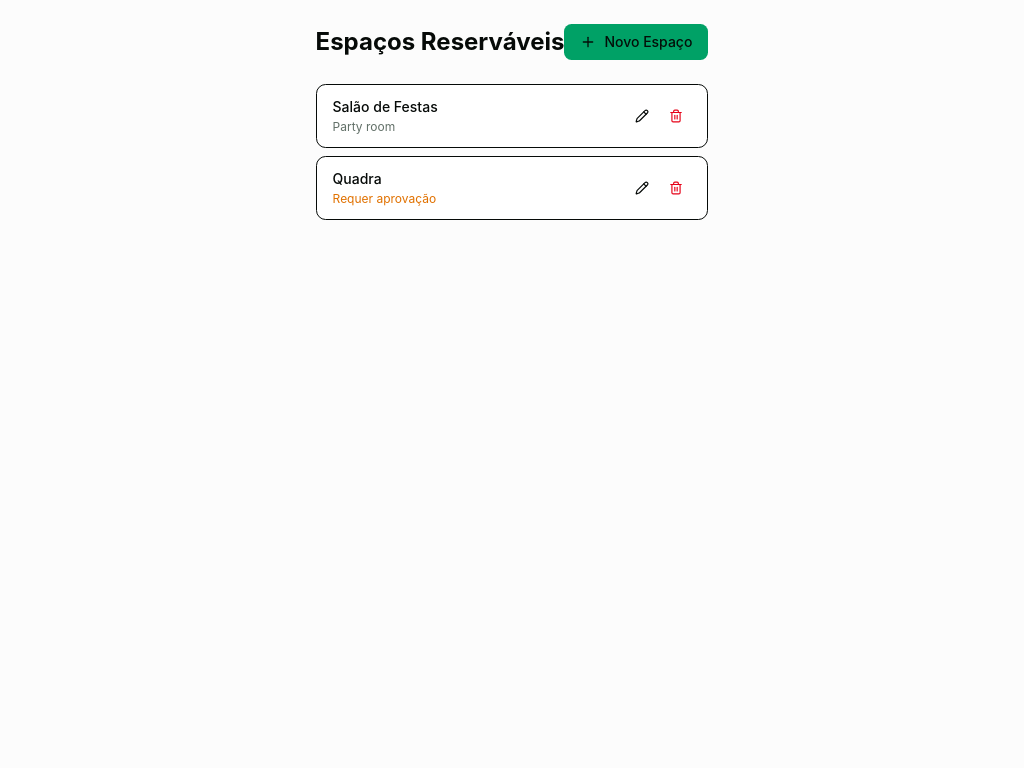
ReservableSpacesPage › shows error alert on create failure
Click the button "Novo Espaço" at coordinates (636, 42), box [564,24,708,60]
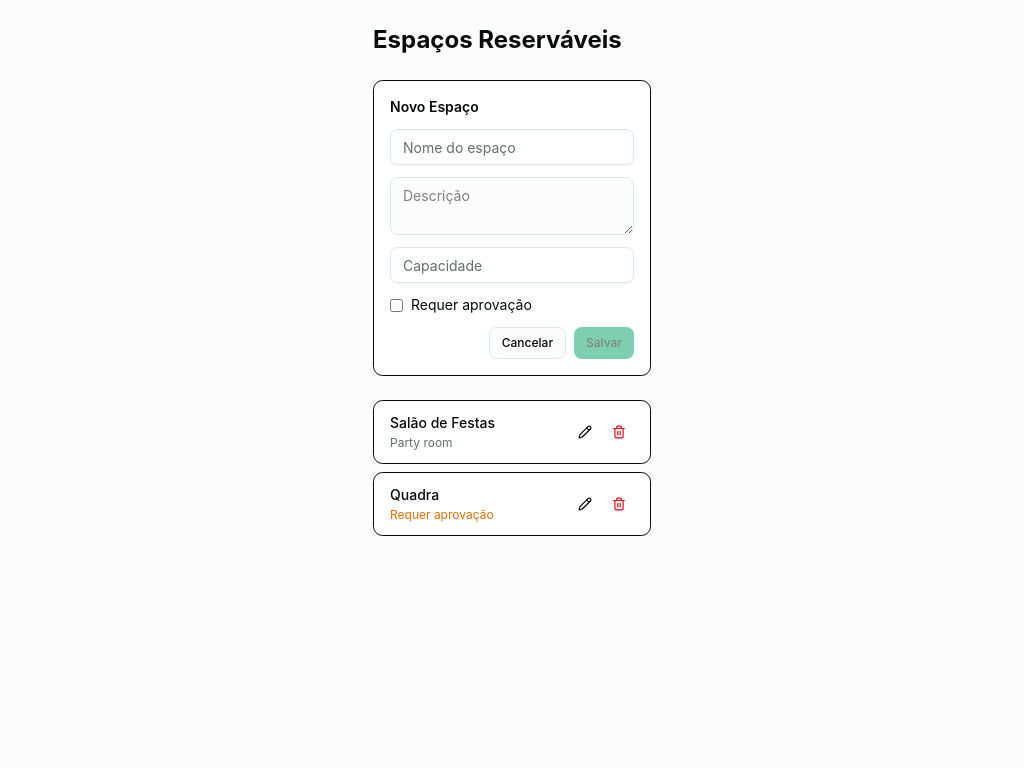
Type "Piscina" into the field with placeholder "Nome do espaço" at coordinates (512, 147), box [390,129,634,165]
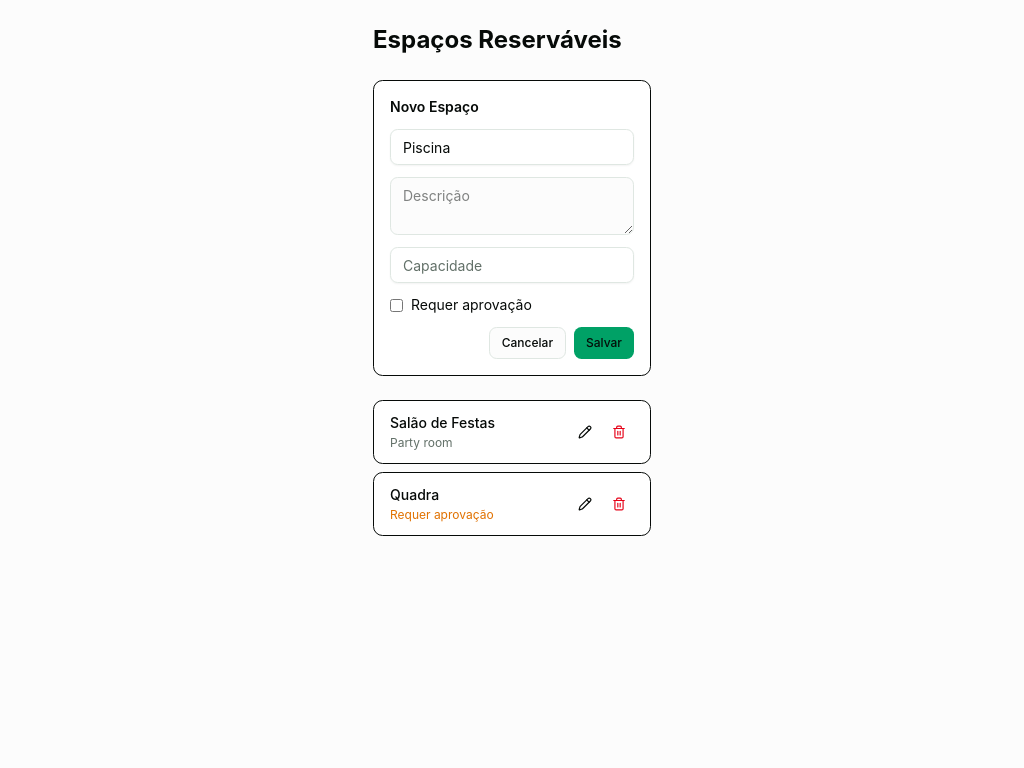
Click the button "Salvar" at coordinates (604, 343), box [574,327,634,359]
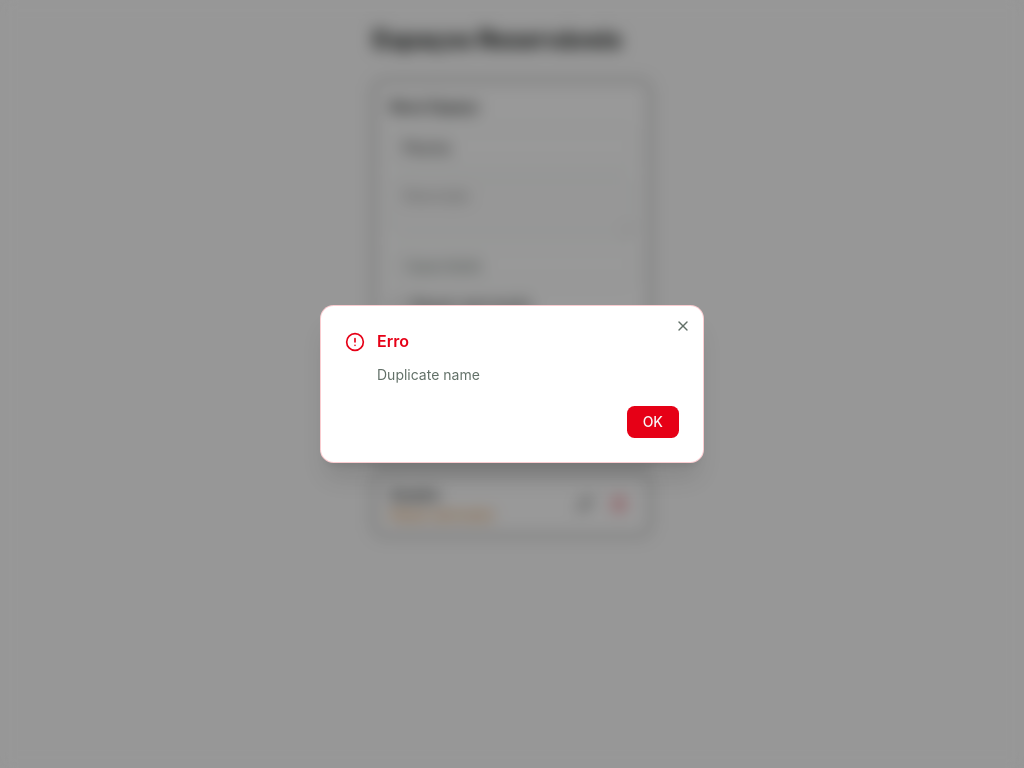
Check: the text "Duplicate name" is shown, box [377,366,480,383]
